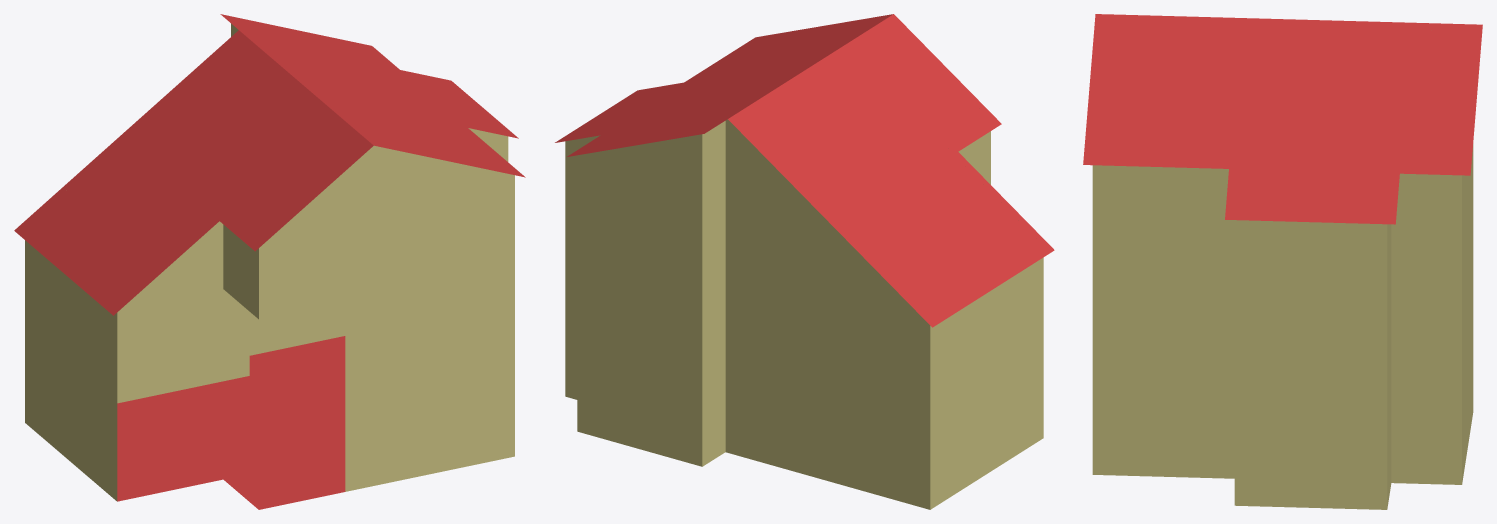
3 renders of one model, left to right at view 1: azimuth 30°, elevation 25°; view 2: azimuth 150°, elevation 25°; view 3: azimuth 270°, elevation 25°, orthographic. The views are drawn at different scales.
Size of the model in its own units: 15.02 by 10.97 by 11.64.
